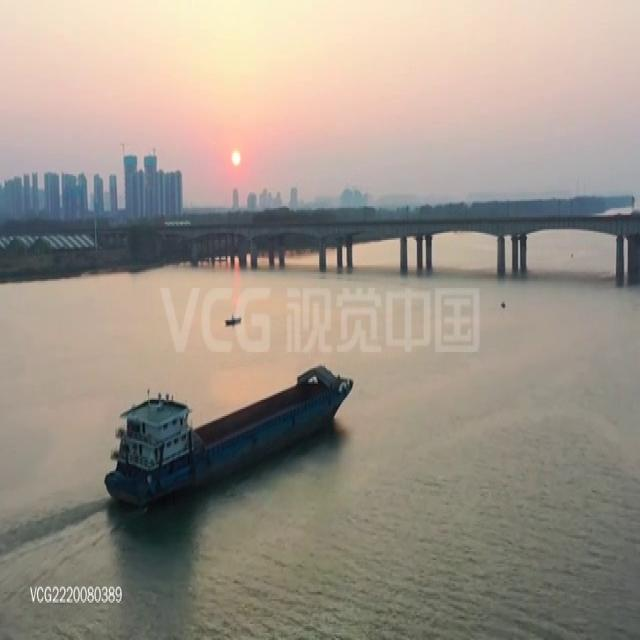cargoship: (120, 348, 343, 508)
